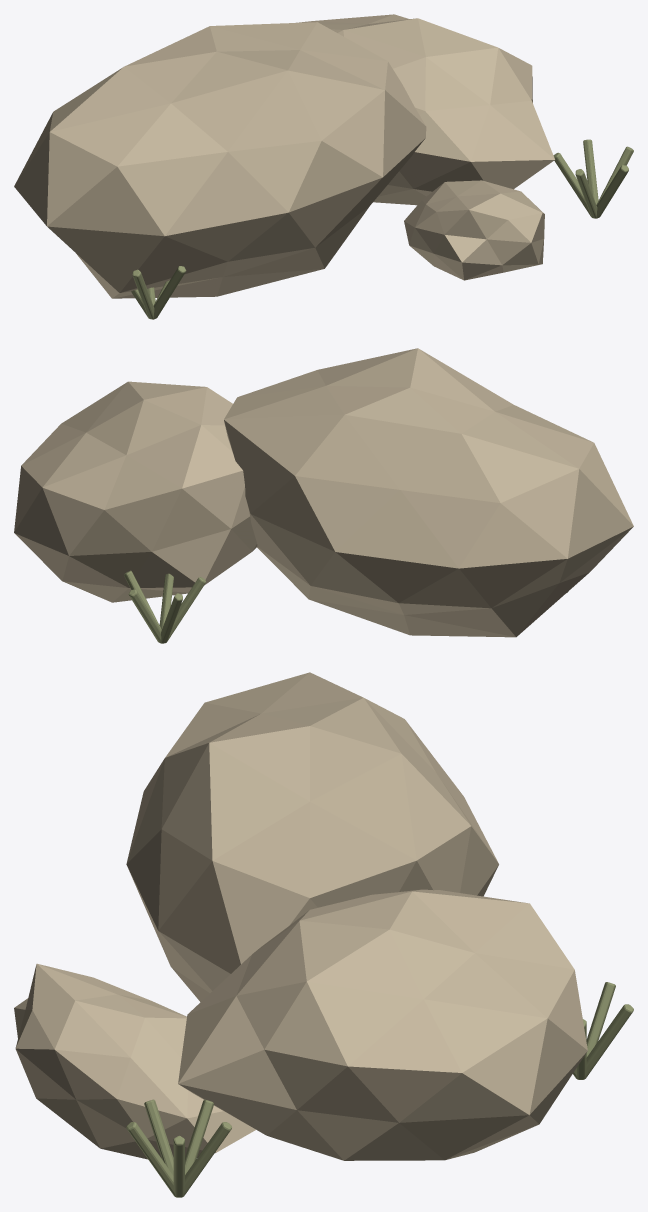
Rendered from rocks.glb.
3 views of the same model, one above another, from view 1: azimuth 30°, elevation 25°; view 2: azimuth 150°, elevation 25°; view 3: azimuth 270°, elevation 25° (orthographic). The views are drawn at different scales.
Visible parts, largest first — view 1: body; view 2: body; view 3: body.
Part boxes in pixels (x1=…): body: x1=14, y1=14, x2=633, y2=319; body: x1=14, y1=348, x2=633, y2=643; body: x1=14, y1=672, x2=633, y2=1197.
Size of the model in its own units: 4.36 by 1.84 by 3.27.
